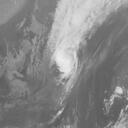cyclone: (42, 40, 83, 80)
